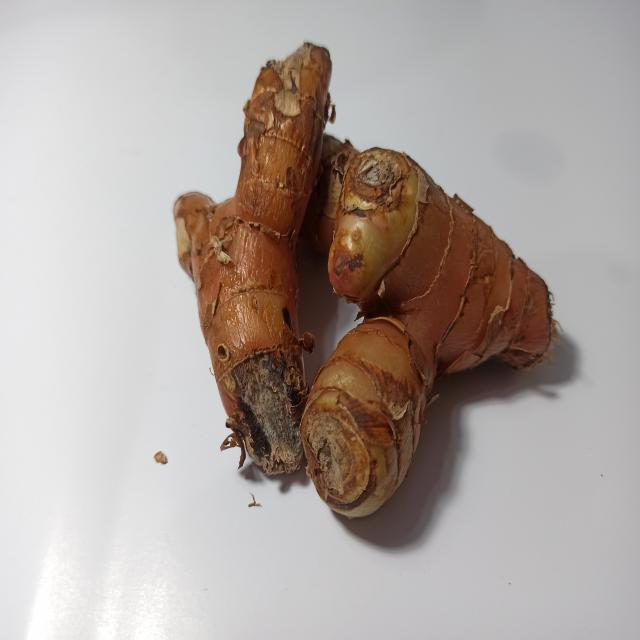ginger: (187, 39, 505, 480)
